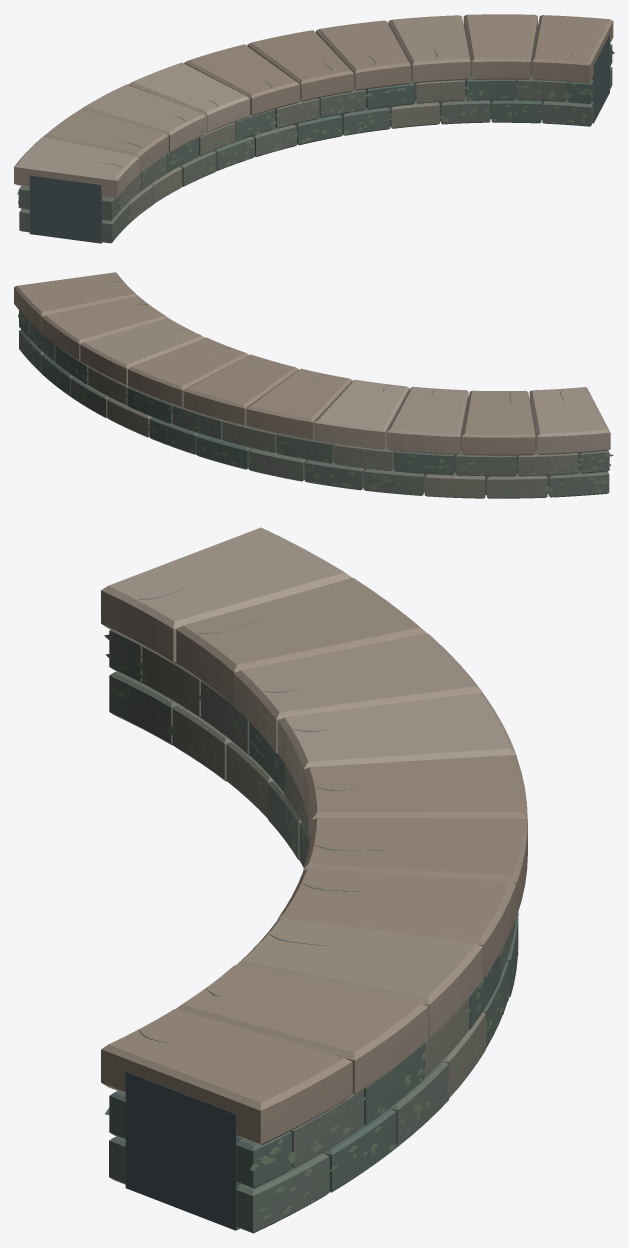
3 views of the same model, one above another, from view 1: azimuth 30°, elevation 25°; view 2: azimuth 150°, elevation 25°; view 3: azimuth 270°, elevation 25° (orthographic). The views are drawn at different scales.
Visible parts, largest first — view 1: Dressed_stone_courses, Recessed_mortar, Damp_stains_and_lichen; view 2: Dressed_stone_courses, Damp_stains_and_lichen; view 3: Dressed_stone_courses, Recessed_mortar, Damp_stains_and_lichen.
Boxes of the visible parts, bbox=[...] form: Dressed_stone_courses: bbox=[14, 14, 613, 243]; Recessed_mortar: bbox=[29, 30, 609, 243]; Damp_stains_and_lichen: bbox=[17, 47, 614, 237]; Dressed_stone_courses: bbox=[14, 272, 610, 498]; Damp_stains_and_lichen: bbox=[18, 280, 613, 496]; Dressed_stone_courses: bbox=[101, 527, 527, 1233]; Recessed_mortar: bbox=[125, 1071, 242, 1230]; Damp_stains_and_lichen: bbox=[104, 585, 518, 1219].
Bounding box in the file's own units: 8.91 × 0.9615 × 2.76.
